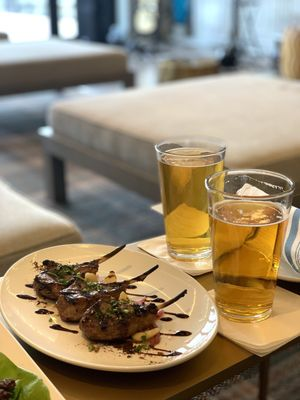pizza: (205, 168, 296, 325), (155, 139, 227, 273)
